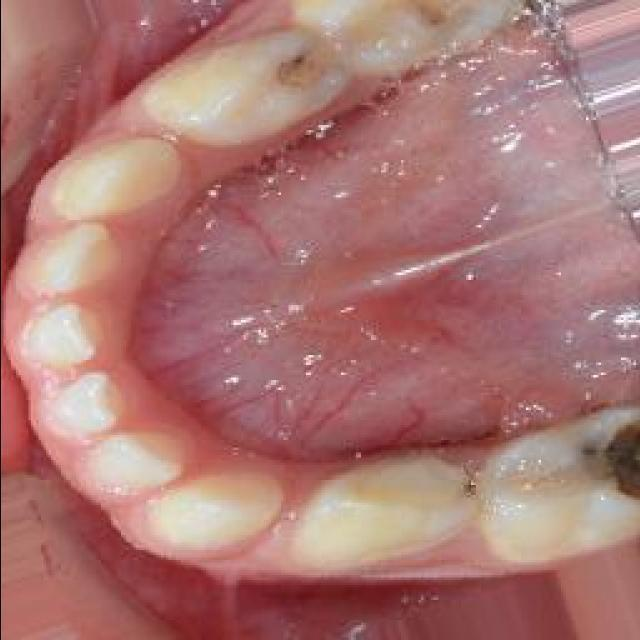decay: (568, 423, 638, 513)
